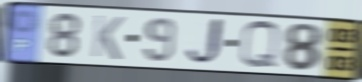8: (281, 21, 324, 73), (46, 11, 82, 60)
9: (141, 16, 178, 65)
J: (183, 16, 227, 69)
K: (89, 13, 126, 62)
Q: (237, 18, 282, 71)
